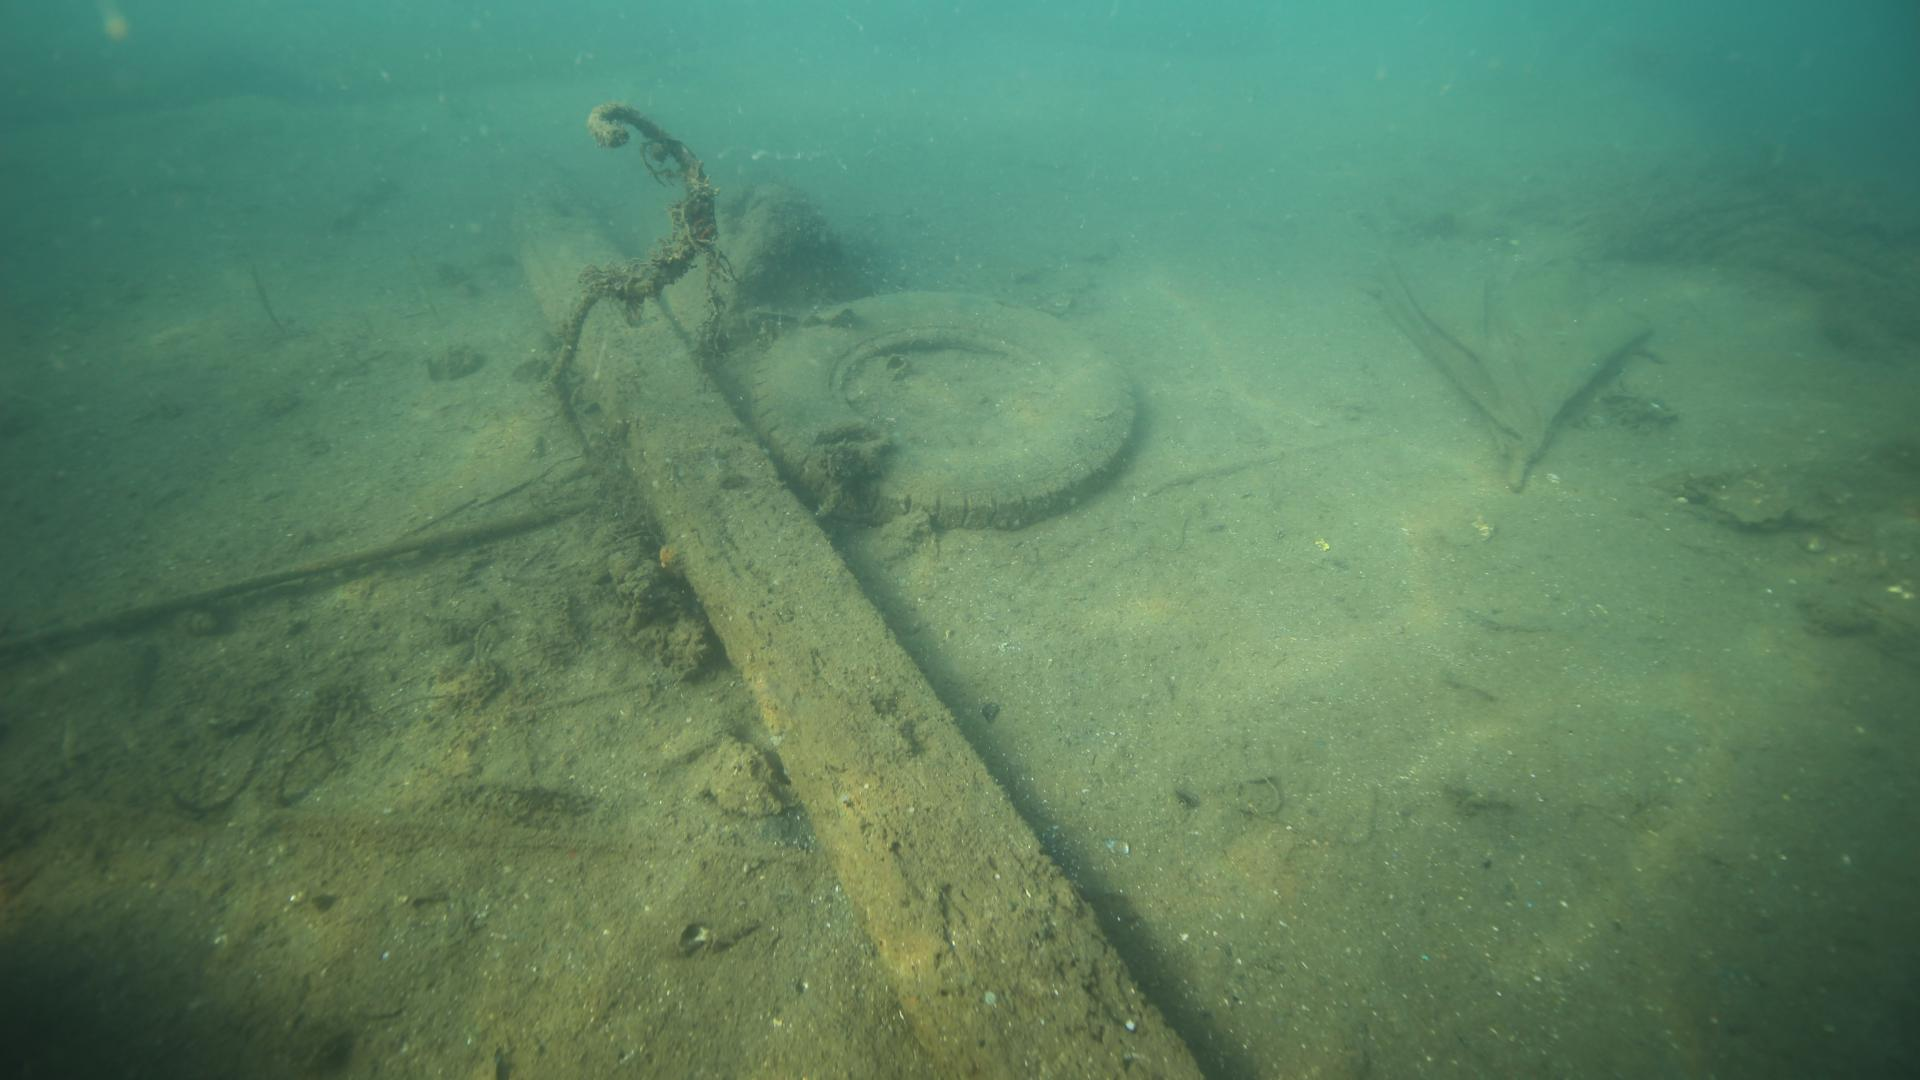tire: (749, 287, 1134, 527)
wood: (516, 193, 1211, 1080)
